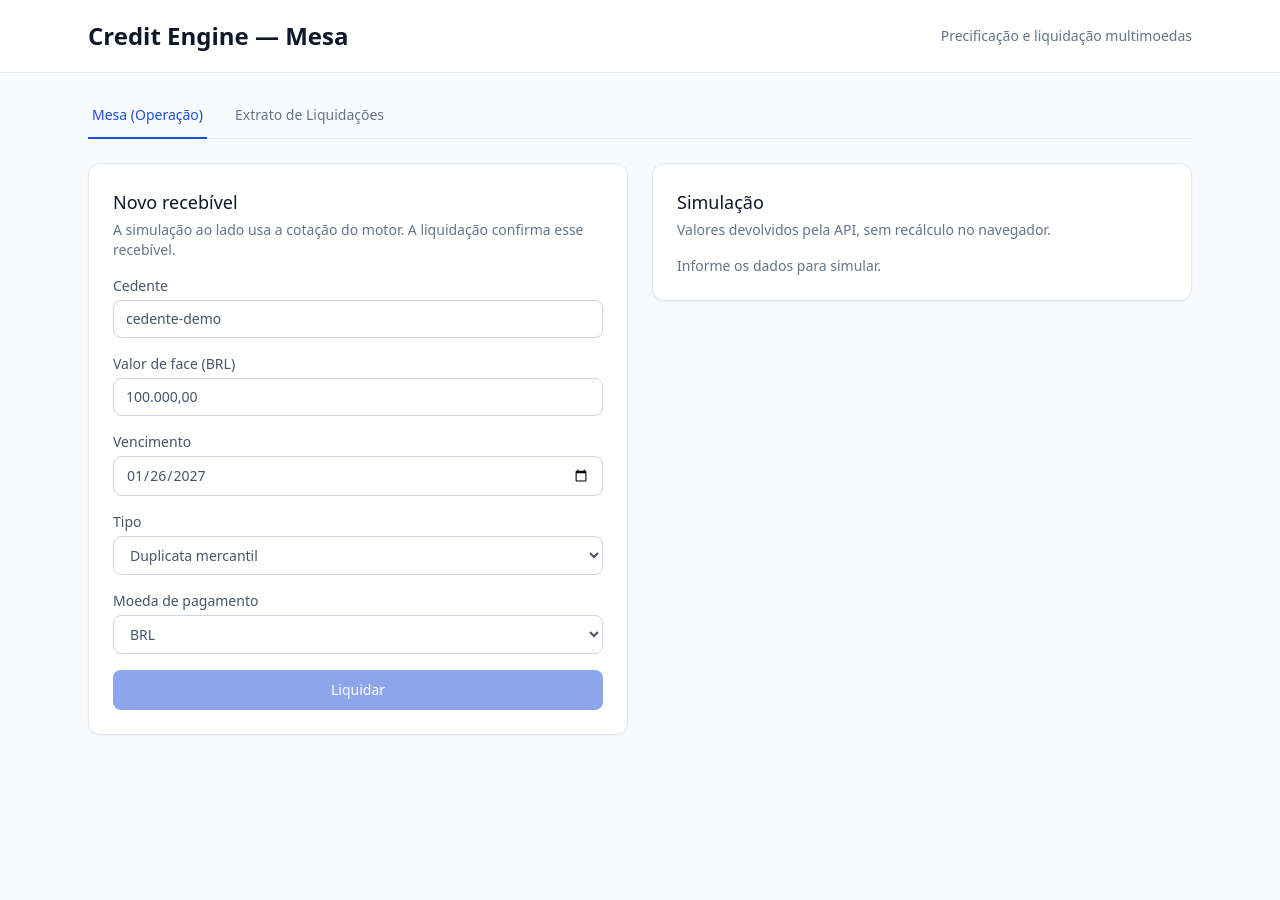
it: masks the face value as the operator types
The image size is (1280, 900).
Replace the text in the field labelled "Valor de face (BRL)" with "100000,50" at (358,397), box [113,378,603,416]
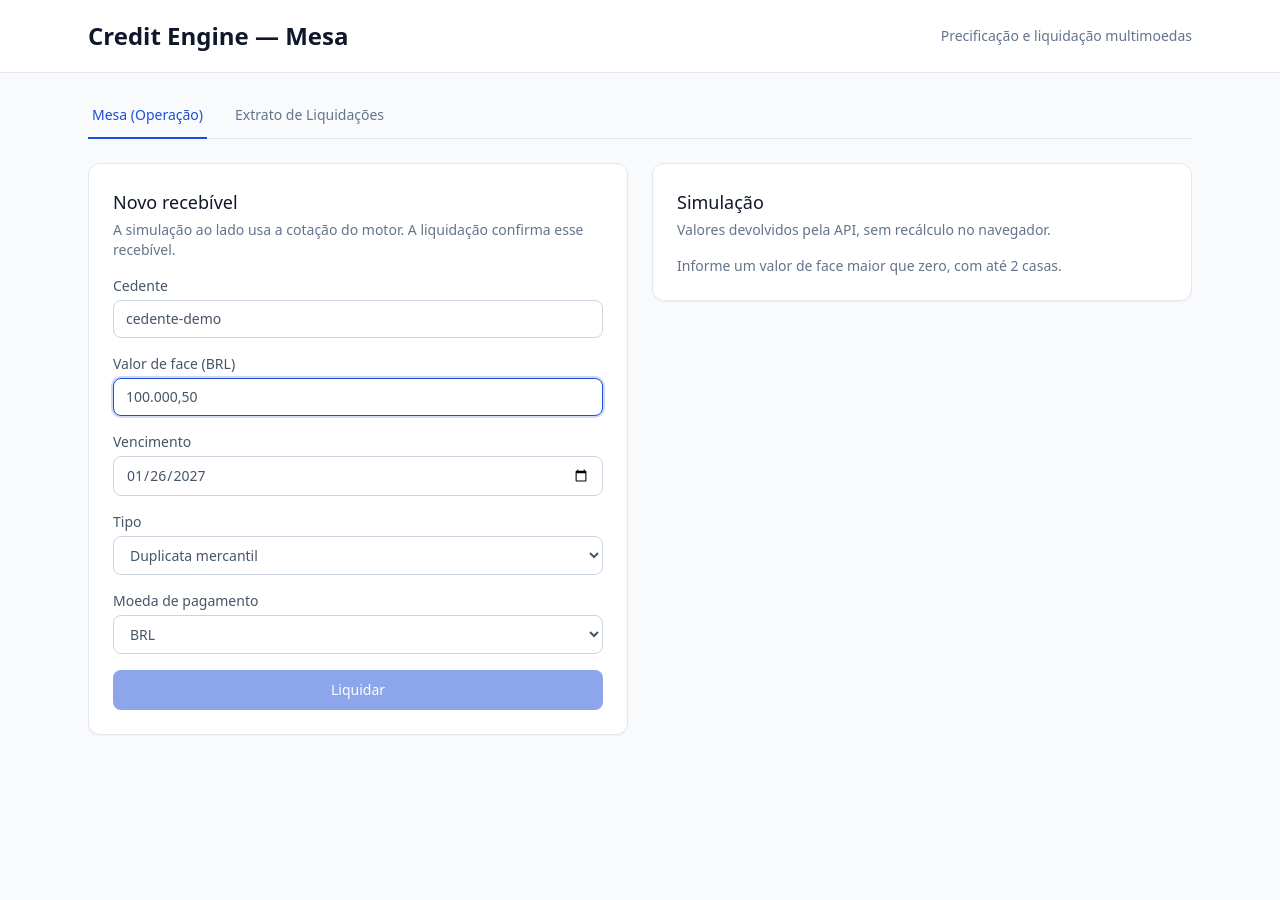
Expected: the field labelled "Valor de face (BRL)" holds "100.000,50", [113,378,603,416]
